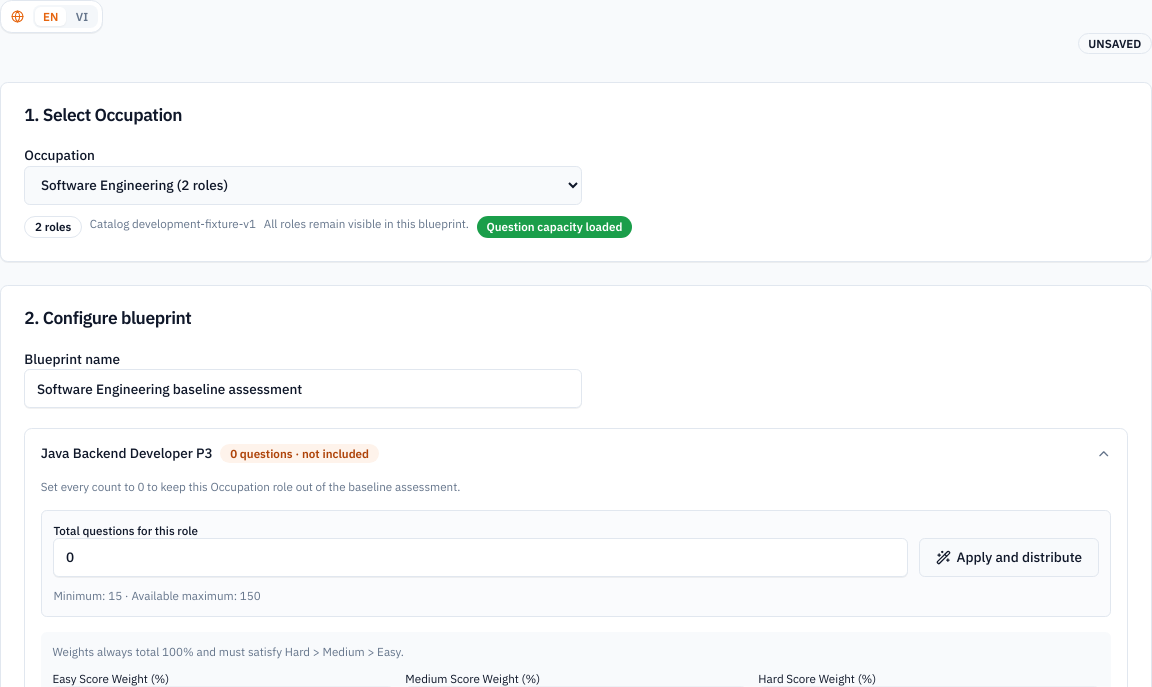
Test: BaselineBlueprintPage › switches English and Vietnamese without losing unsaved form state or reloading catalog
The width and height of the screenshot is (1152, 687).
Expected: the text "Java Backend Developer P3" is shown, [41,444,213,463]
Replace the text in the field labelled "Blueprint name" with "Unsaved custom blueprint" at (303, 389), box [24,369,582,408]
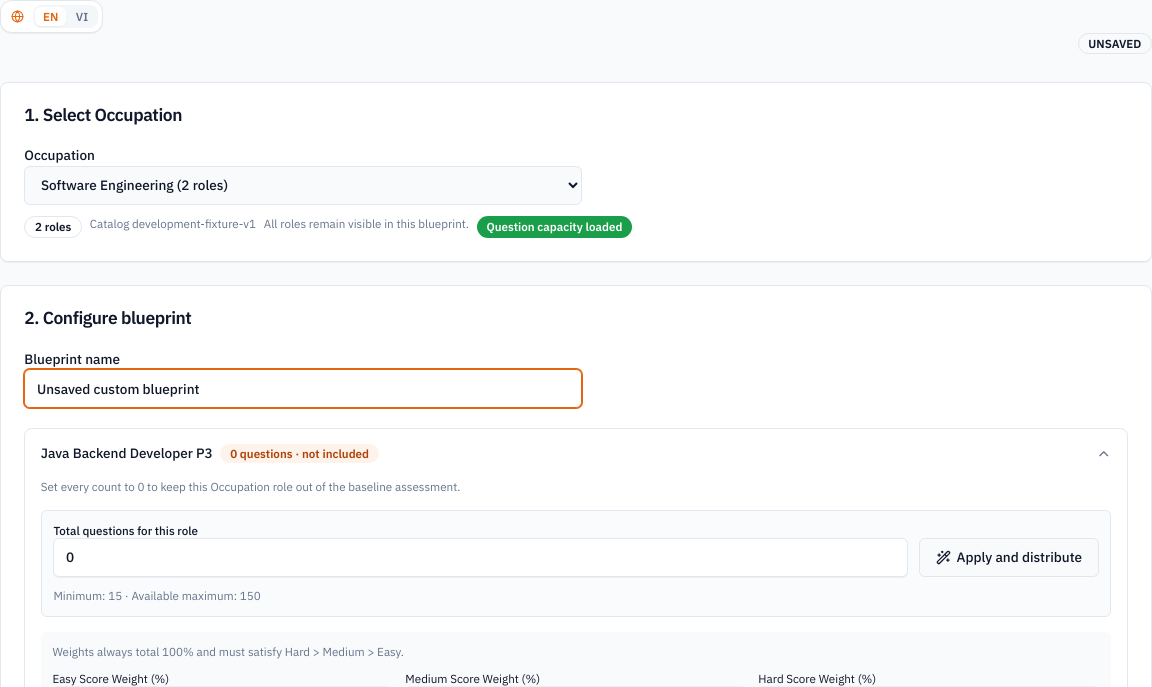
Replace the text in the number field labelled "Total questions for this role" with "8" at (480, 557), box [53,538,908,577]
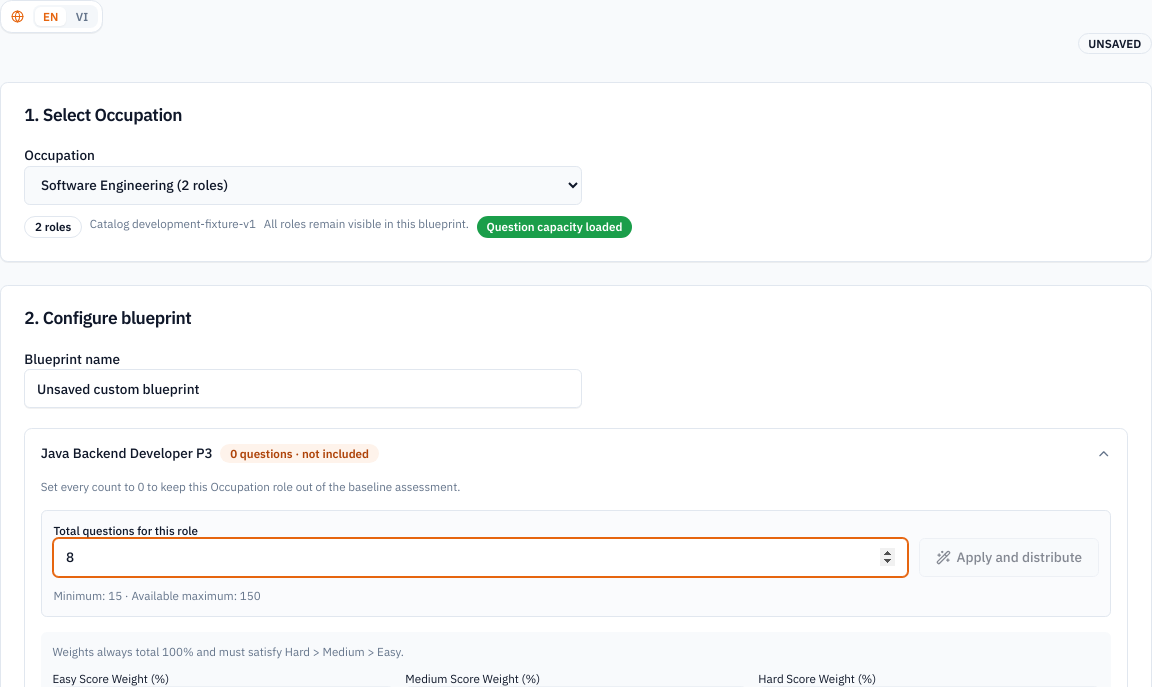
Click the button "VI" at (82, 16), box [68,7,96,26]
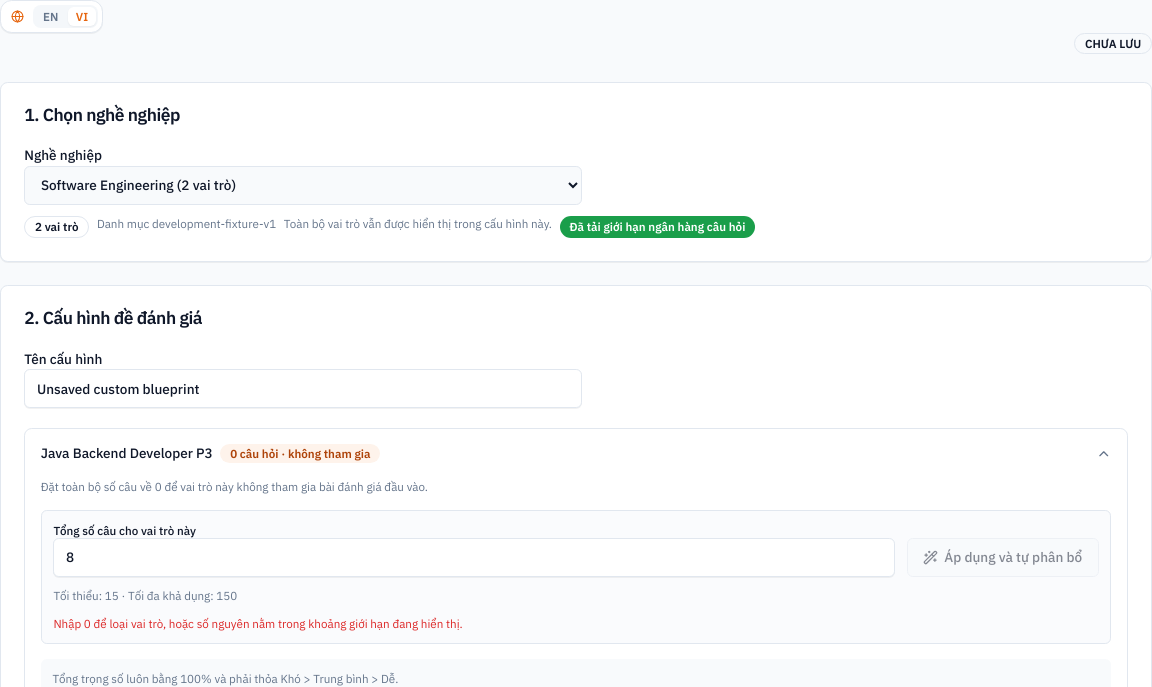
Now the heading "1. Chọn nghề nghiệp" is shown, box [24,103,180,126]
Click the button "EN" at (51, 16), box [35,7,66,26]
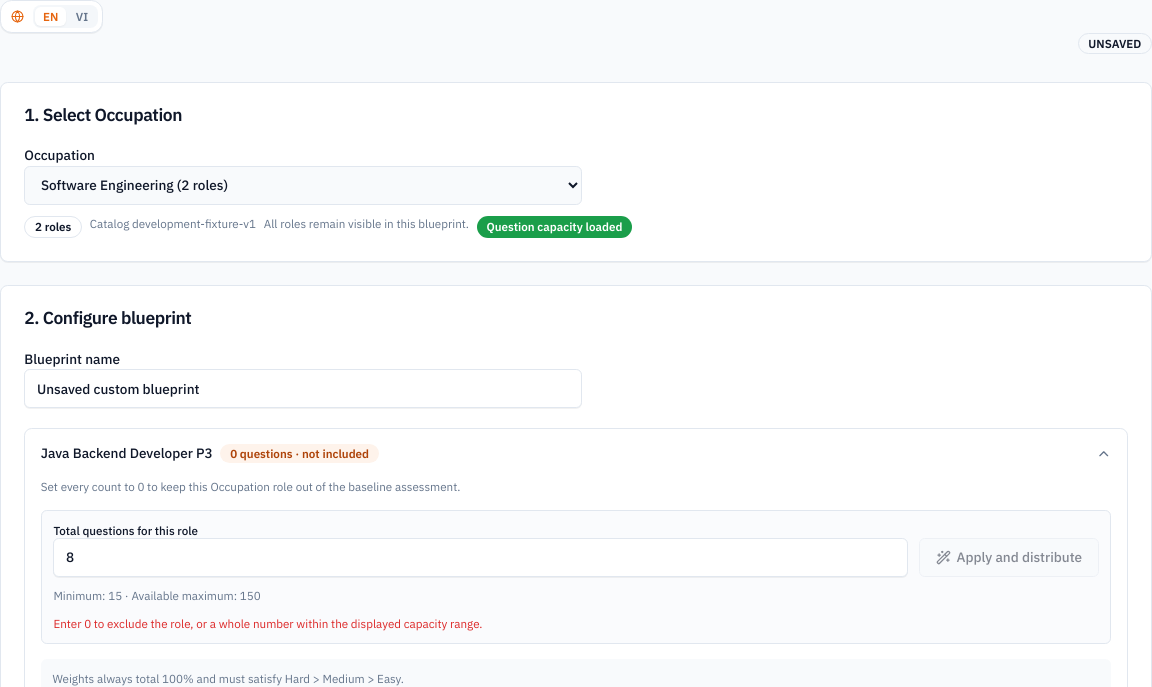
Now the heading "1. Select Occupation" is shown, box [24,103,182,126]
